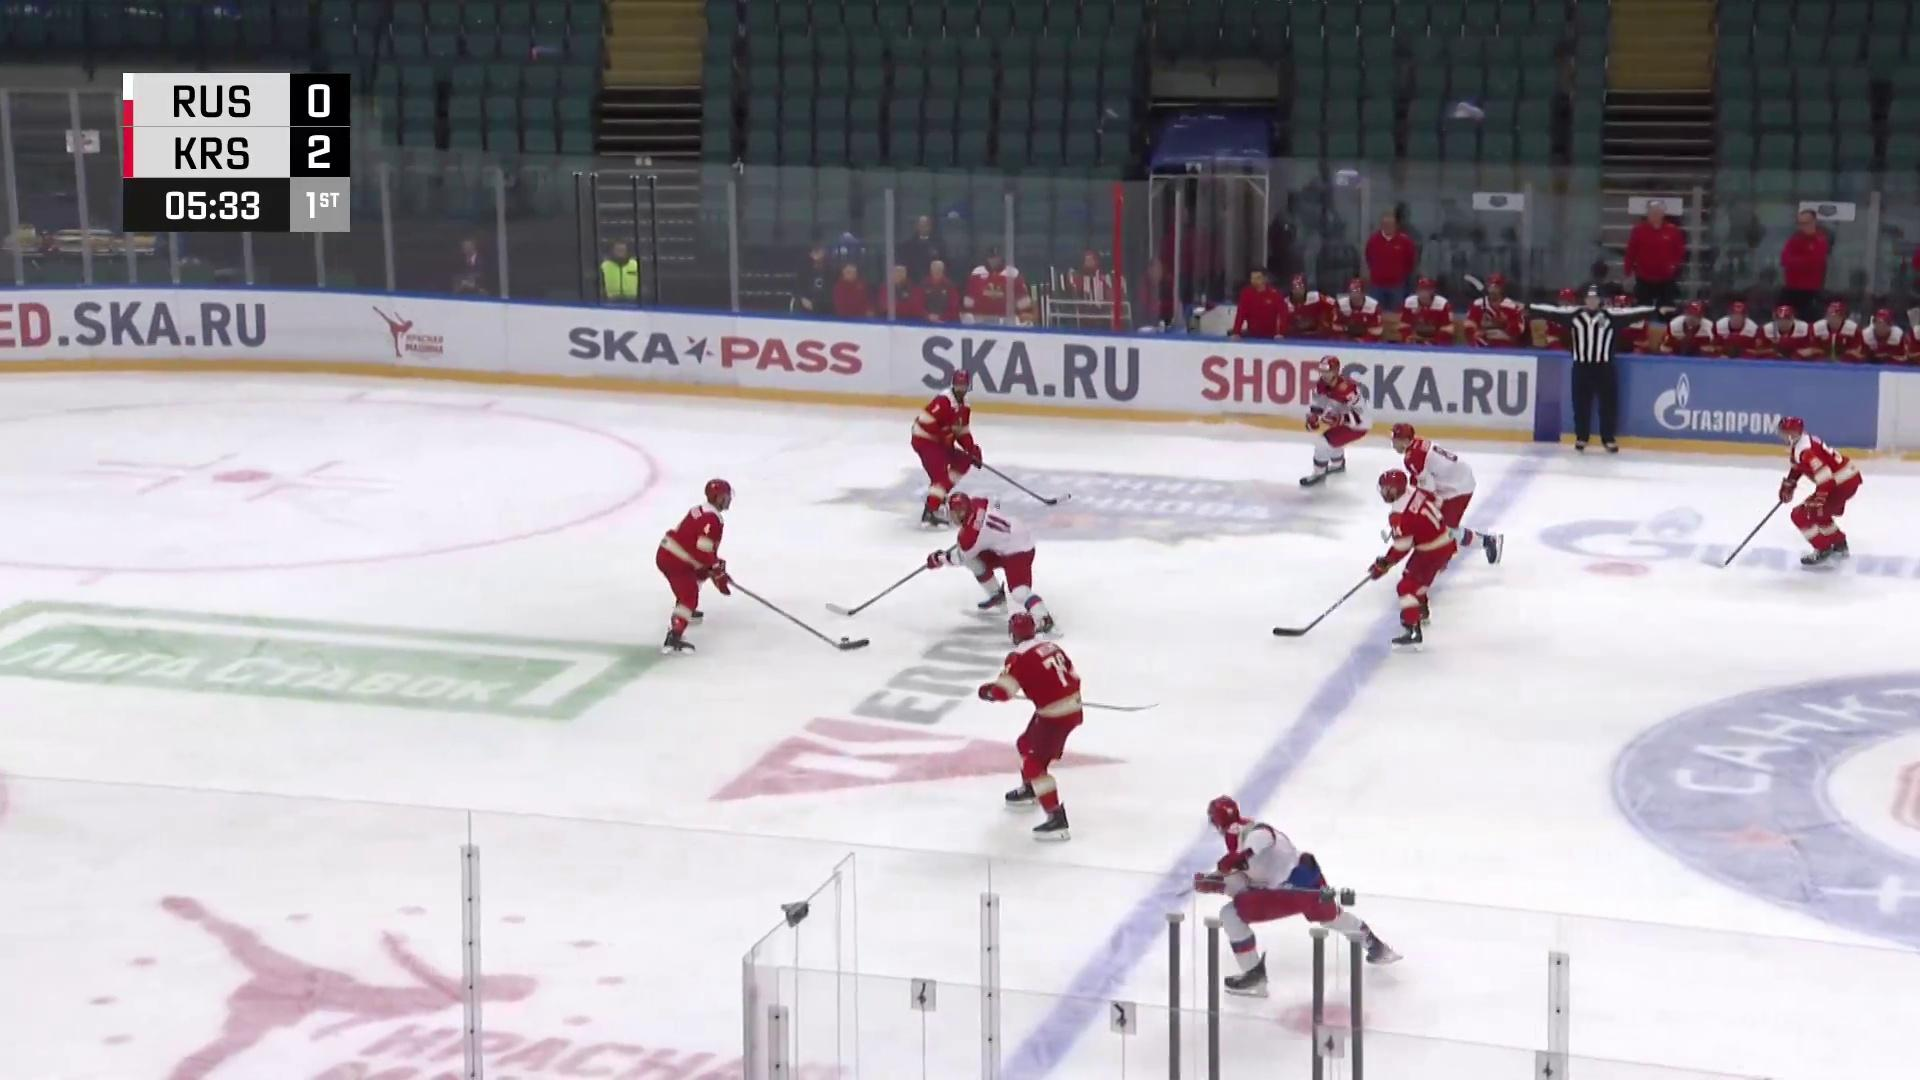ball: (836, 633, 852, 644)
